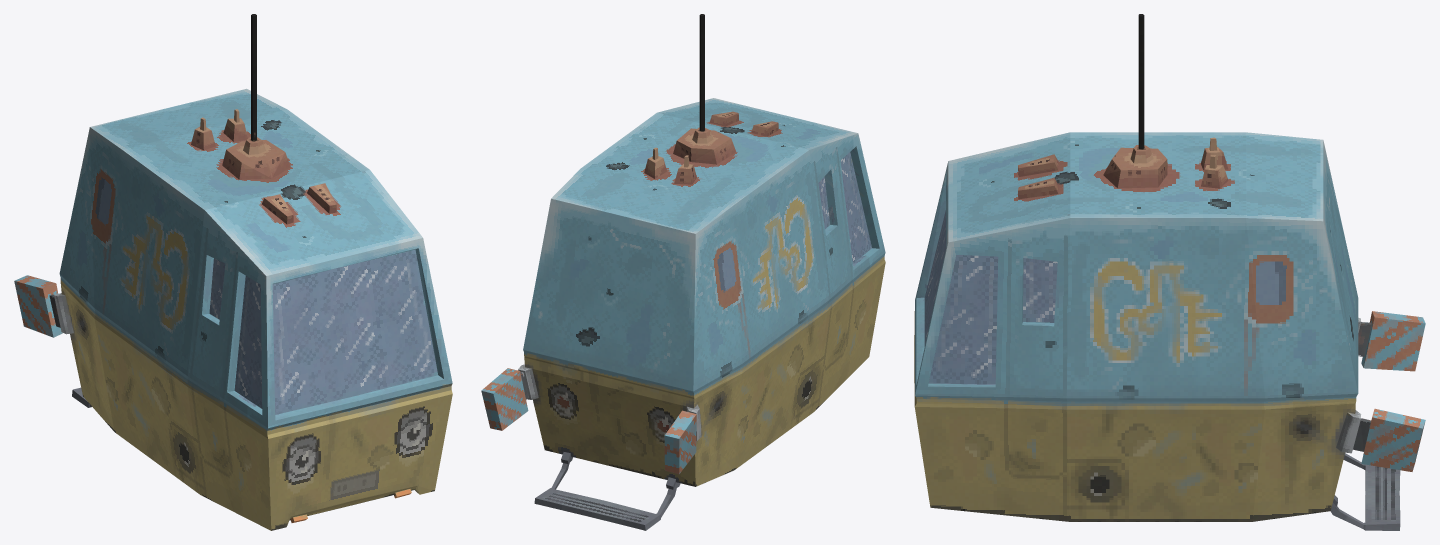
File: funicular.glb
3 views of the same model, side by side, from view 1: azimuth 30°, elevation 25°; view 2: azimuth 150°, elevation 25°; view 3: azimuth 270°, elevation 25° (orthographic). The views are drawn at different scales.
Parts seen in each view (by area): view 1: Cube.007_0; view 2: Cube.007_0; view 3: Cube.007_0.
Boxes of the visible parts, left/top/right/bottom form: Cube.007_0: left=14, top=14, right=452, bottom=530; Cube.007_0: left=481, top=14, right=885, bottom=530; Cube.007_0: left=914, top=14, right=1425, bottom=530.
Size of the model in its own units: 1.15 by 2.33 by 2.23.
Materials: 1 (1 with a texture image).
